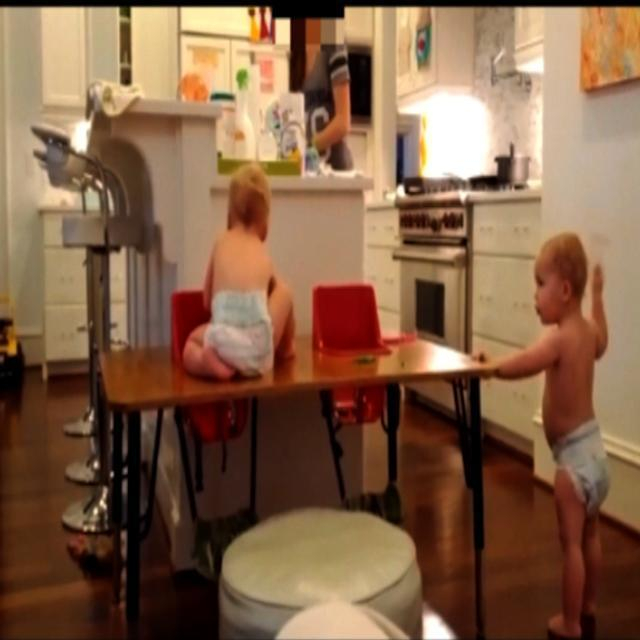child: (483, 233, 609, 633), (183, 170, 299, 375)
